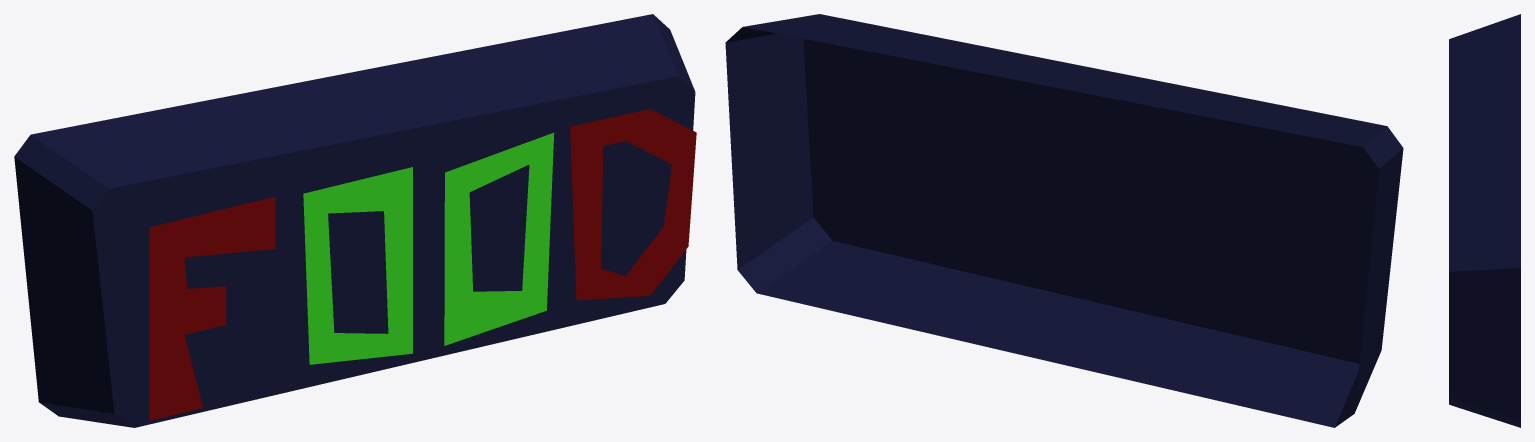
File: MDL_FoodSign.FBX
The picture shows the model from 3 angles, left to right: view 1: azimuth 30°, elevation 25°; view 2: azimuth 150°, elevation 25°; view 3: azimuth 270°, elevation 25°; orthographic projection. The views are drawn at different scales.
Parts seen in each view (by area): view 1: Box026; view 2: Box026; view 3: Box026.
Boxes of the visible parts, left/top/right/bottom form: Box026: left=14, top=14, right=696, bottom=427; Box026: left=725, top=14, right=1403, bottom=427; Box026: left=1449, top=14, right=1520, bottom=427.
Bounding box in the file's own units: 71.44 × 30.73 × 11.98.
